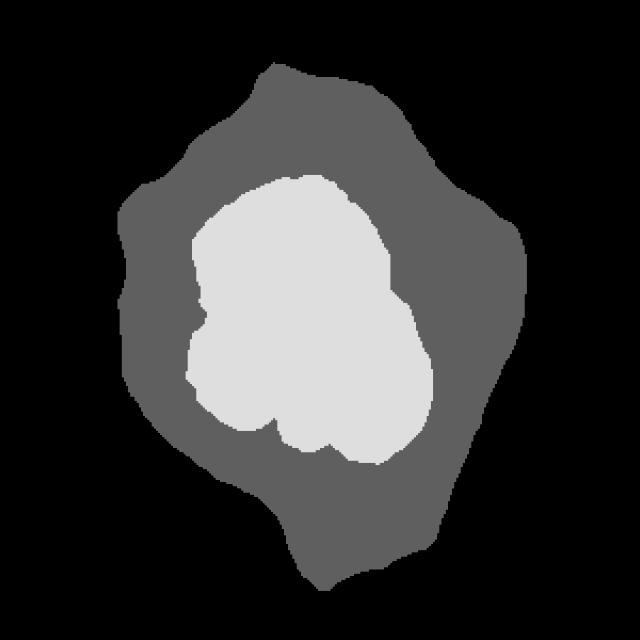WBC: (98, 47, 544, 614)
